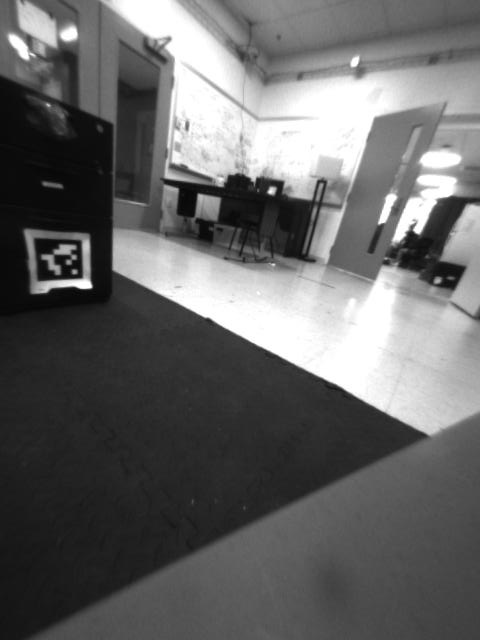drawer: (15, 94, 73, 151)
